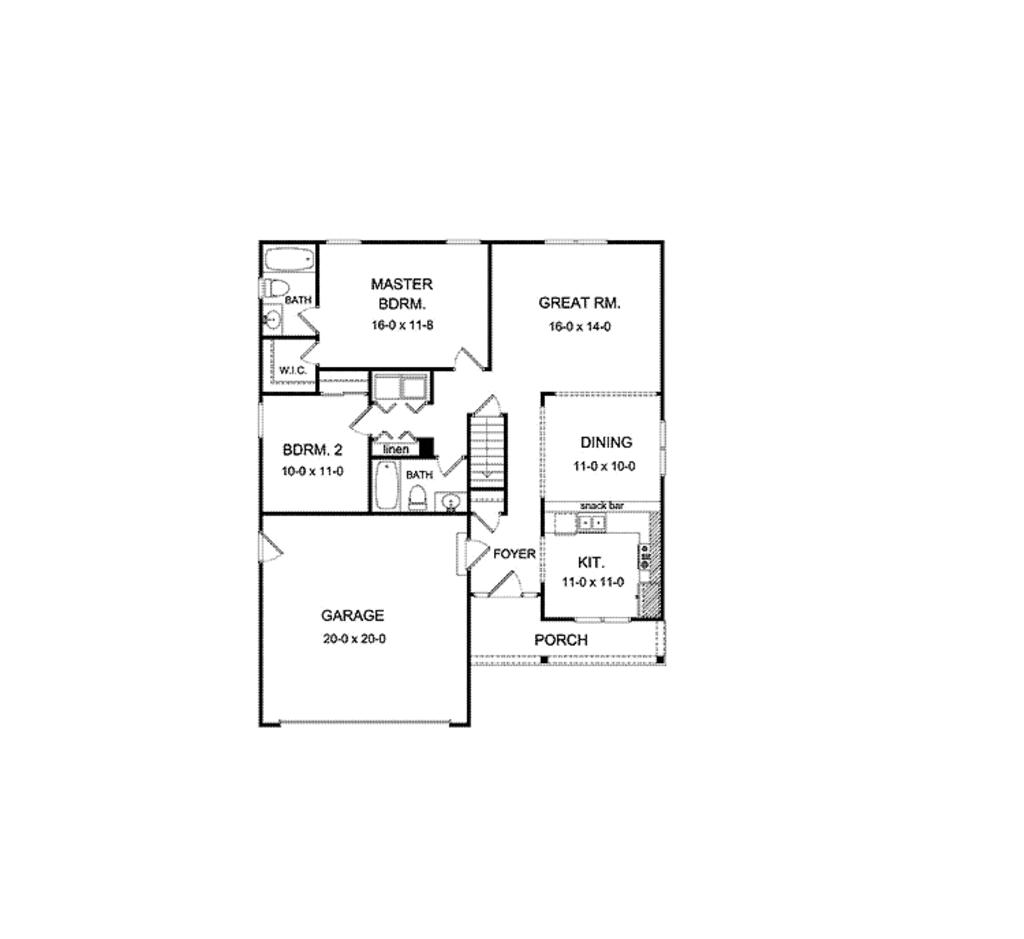door: (471, 561, 539, 604), (455, 536, 491, 577), (453, 339, 488, 381), (253, 529, 291, 564), (292, 298, 324, 330), (353, 398, 376, 435), (473, 503, 502, 530), (299, 340, 324, 369)
large_sink: (401, 472, 427, 513), (260, 278, 297, 304)
small_sink: (428, 488, 471, 517), (257, 303, 284, 336)
stairs: (462, 413, 517, 509)
tub: (259, 239, 330, 278), (373, 448, 399, 509)
twin_sink: (562, 504, 620, 538)
window: (528, 235, 615, 249), (249, 396, 271, 442), (655, 417, 673, 471), (575, 613, 636, 626)
